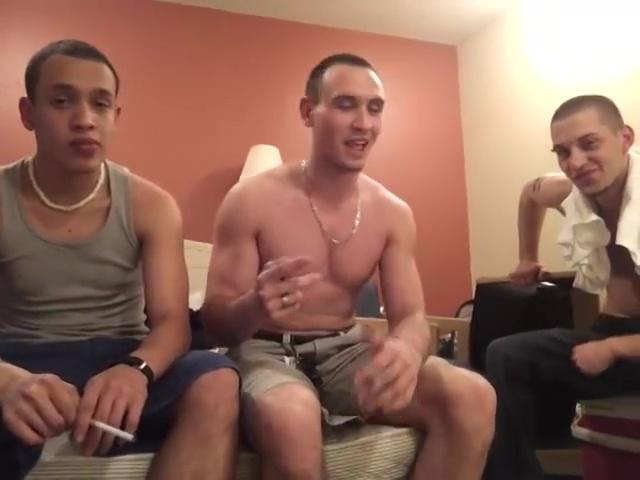cigarette: (87, 418, 141, 443)
